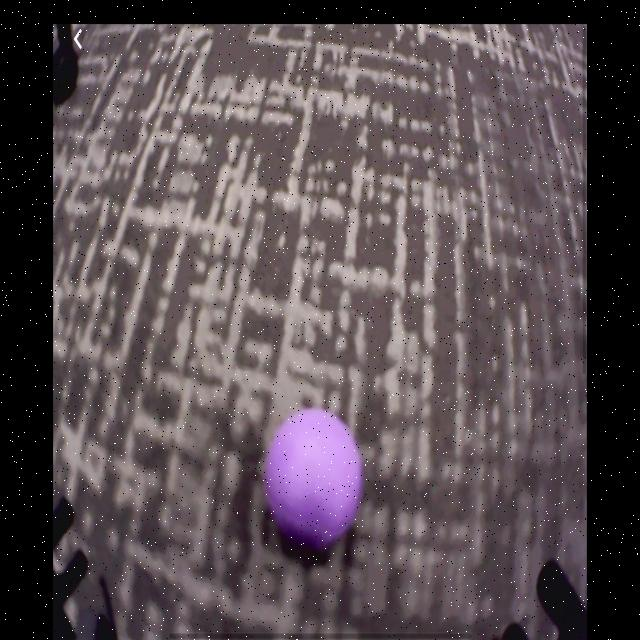ball: (262, 406, 362, 546)
